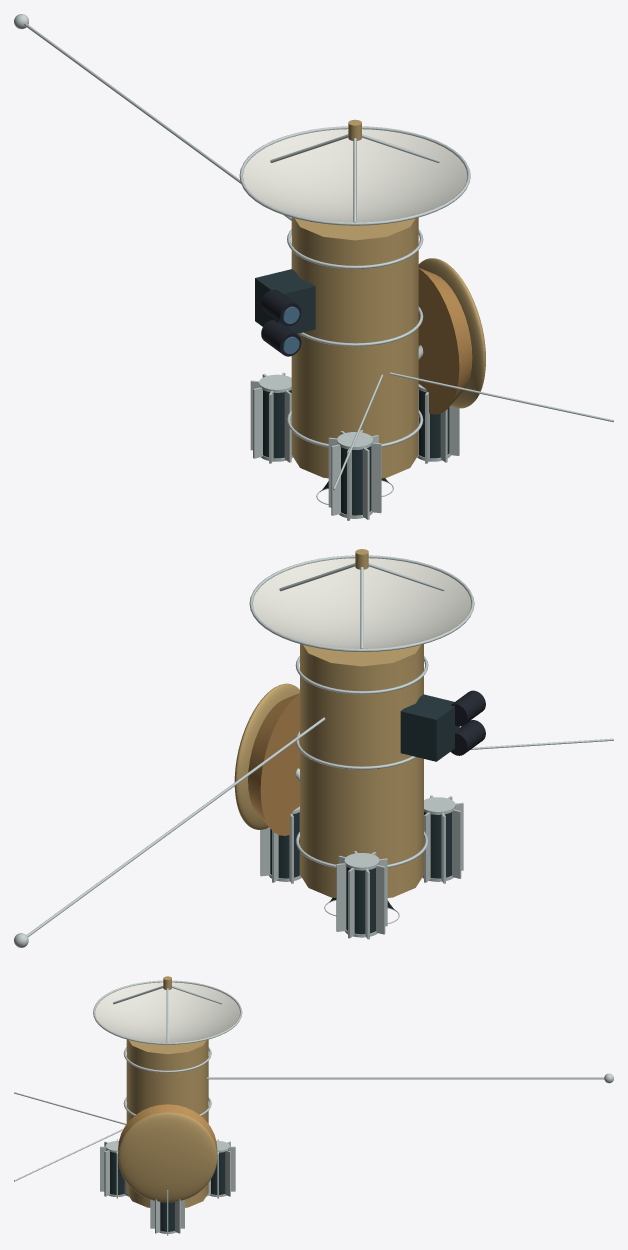
The model's file is cassini.glb.
The picture shows the model from 3 angles, top to bottom: view 1: azimuth 30°, elevation 25°; view 2: azimuth 150°, elevation 25°; view 3: azimuth 270°, elevation 25°; orthographic projection. The views are drawn at different scales.
Parts seen in each view (by area): view 1: body, reflector, service (×3), payload, antenna, iss-electronics-housing, instruments, iss-wac-barrel, iss-nac-barrel; view 2: body, reflector, service (×3), payload, iss-electronics-housing, antenna, instruments, iss-wac-barrel, iss-nac-barrel; view 3: payload, reflector, body, service (×3), instruments, antenna.
Part boxes in pixels (x1,y1,x2,y2): body: (287, 217, 423, 478); reflector: (243, 129, 467, 222); service (×3): (250, 372, 459, 520); payload: (418, 258, 485, 414); antenna: (239, 119, 470, 225); iss-electronics-housing: (255, 269, 315, 333); instruments: (14, 14, 613, 490); iss-wac-barrel: (261, 289, 301, 326); iss-nac-barrel: (261, 319, 301, 356); body: (295, 644, 428, 897); reflector: (253, 558, 471, 648); service (×3): (260, 795, 463, 939); payload: (234, 683, 299, 835); iss-electronics-housing: (400, 694, 459, 761); antenna: (249, 549, 474, 651); instruments: (14, 717, 613, 947); iss-wac-barrel: (451, 690, 485, 726); iss-nac-barrel: (450, 720, 485, 755); payload: (118, 1104, 217, 1202); reflector: (95, 982, 239, 1042); body: (123, 1039, 211, 1207); service (×3): (100, 1139, 235, 1235); instruments: (14, 1073, 613, 1181); antenna: (93, 976, 242, 1044).
Size of the model in its own units: 3.42 by 4.3 by 9.79.
